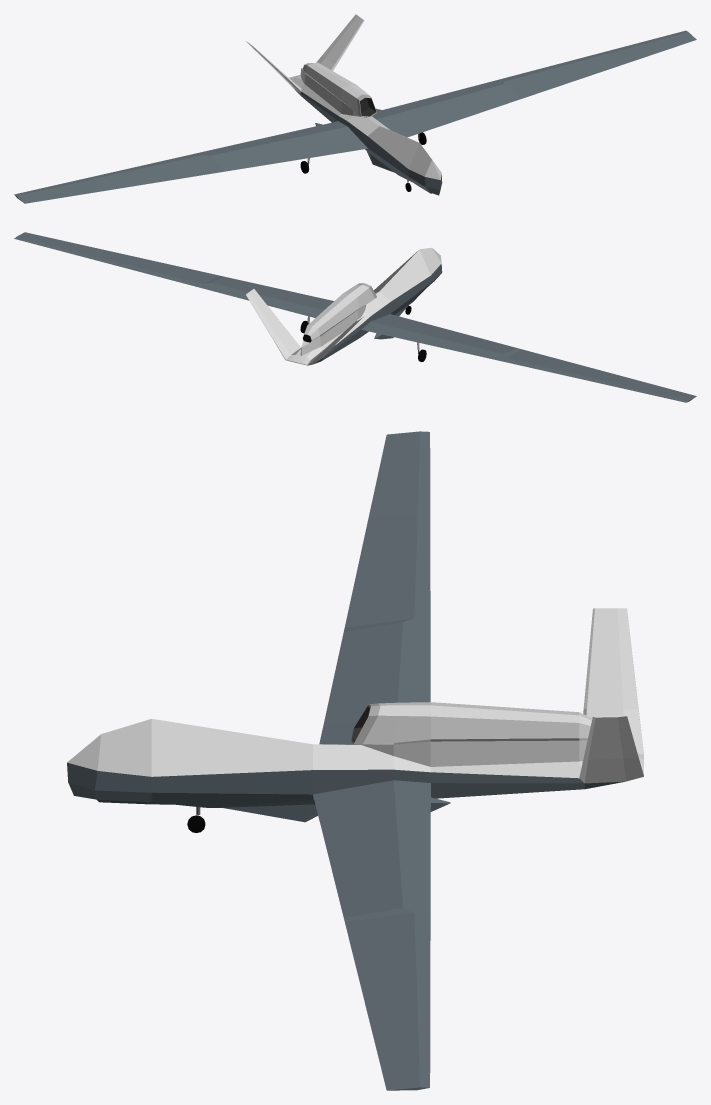
3 renders of one model, top to bottom at view 1: azimuth 30°, elevation 25°; view 2: azimuth 150°, elevation 25°; view 3: azimuth 270°, elevation 25°, orthographic. The views are drawn at different scales.
Parts seen in each view (by area): view 1: Circle.044, Circle.053, Circle.046, Circle.052, Circle.047; view 2: Circle.044, Circle.046, Circle.053, Circle.052, Circle.047; view 3: Circle.044, Circle.053, Circle.046, Circle.047, Circle.052, Circle.054.
Part boxes in pixels (left/top/right/bottom): Circle.044: left=14, top=16, right=696, bottom=203; Circle.053: left=406, top=80, right=502, bottom=108; Circle.046: left=204, top=131, right=302, bottom=155; Circle.052: left=501, top=52, right=607, bottom=81; Circle.047: left=95, top=153, right=202, bottom=177; Circle.044: left=14, top=232, right=696, bottom=402; Circle.046: left=406, top=332, right=502, bottom=359; Circle.053: left=204, top=282, right=301, bottom=312; Circle.052: left=95, top=257, right=202, bottom=287; Circle.047: left=501, top=357, right=607, bottom=384; Circle.044: left=67, top=431, right=643, bottom=1090; Circle.053: left=397, top=822, right=430, bottom=909; Circle.046: left=397, top=622, right=430, bottom=702; Circle.047: left=414, top=513, right=430, bottom=619; Circle.052: left=414, top=912, right=430, bottom=1011; Circle.054: left=617, top=608, right=638, bottom=709.
Size of the model in its own units: 3843 by 466 by 1429.
